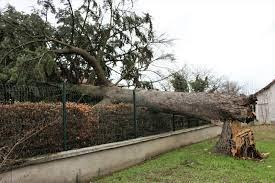Downstairs: (1, 1, 257, 126)
